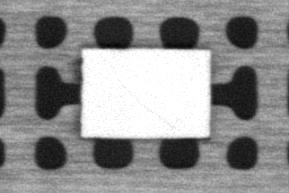DIE_CRACK: (105, 57, 171, 129)
